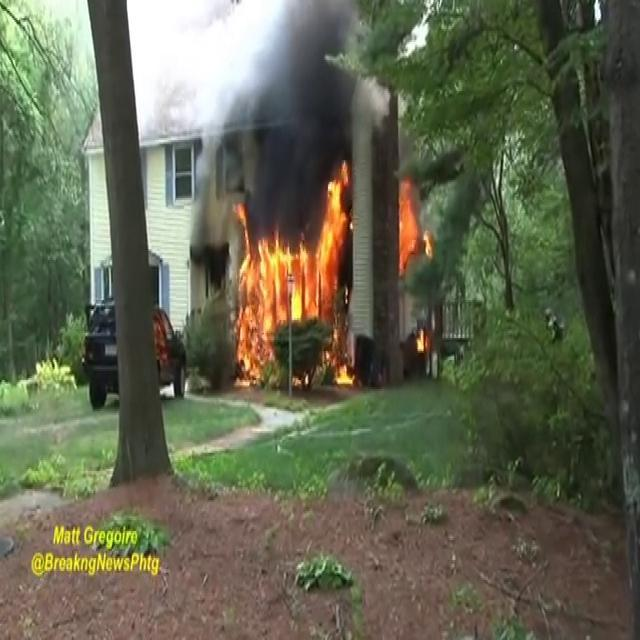Fire: (231, 164, 356, 378), (396, 170, 422, 274), (414, 321, 430, 364)
Smoke: (206, 0, 382, 231)
